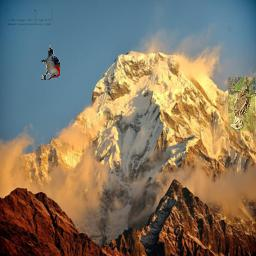Sparrow: (228, 77, 256, 131)
Woodpecker: (42, 46, 61, 81)
